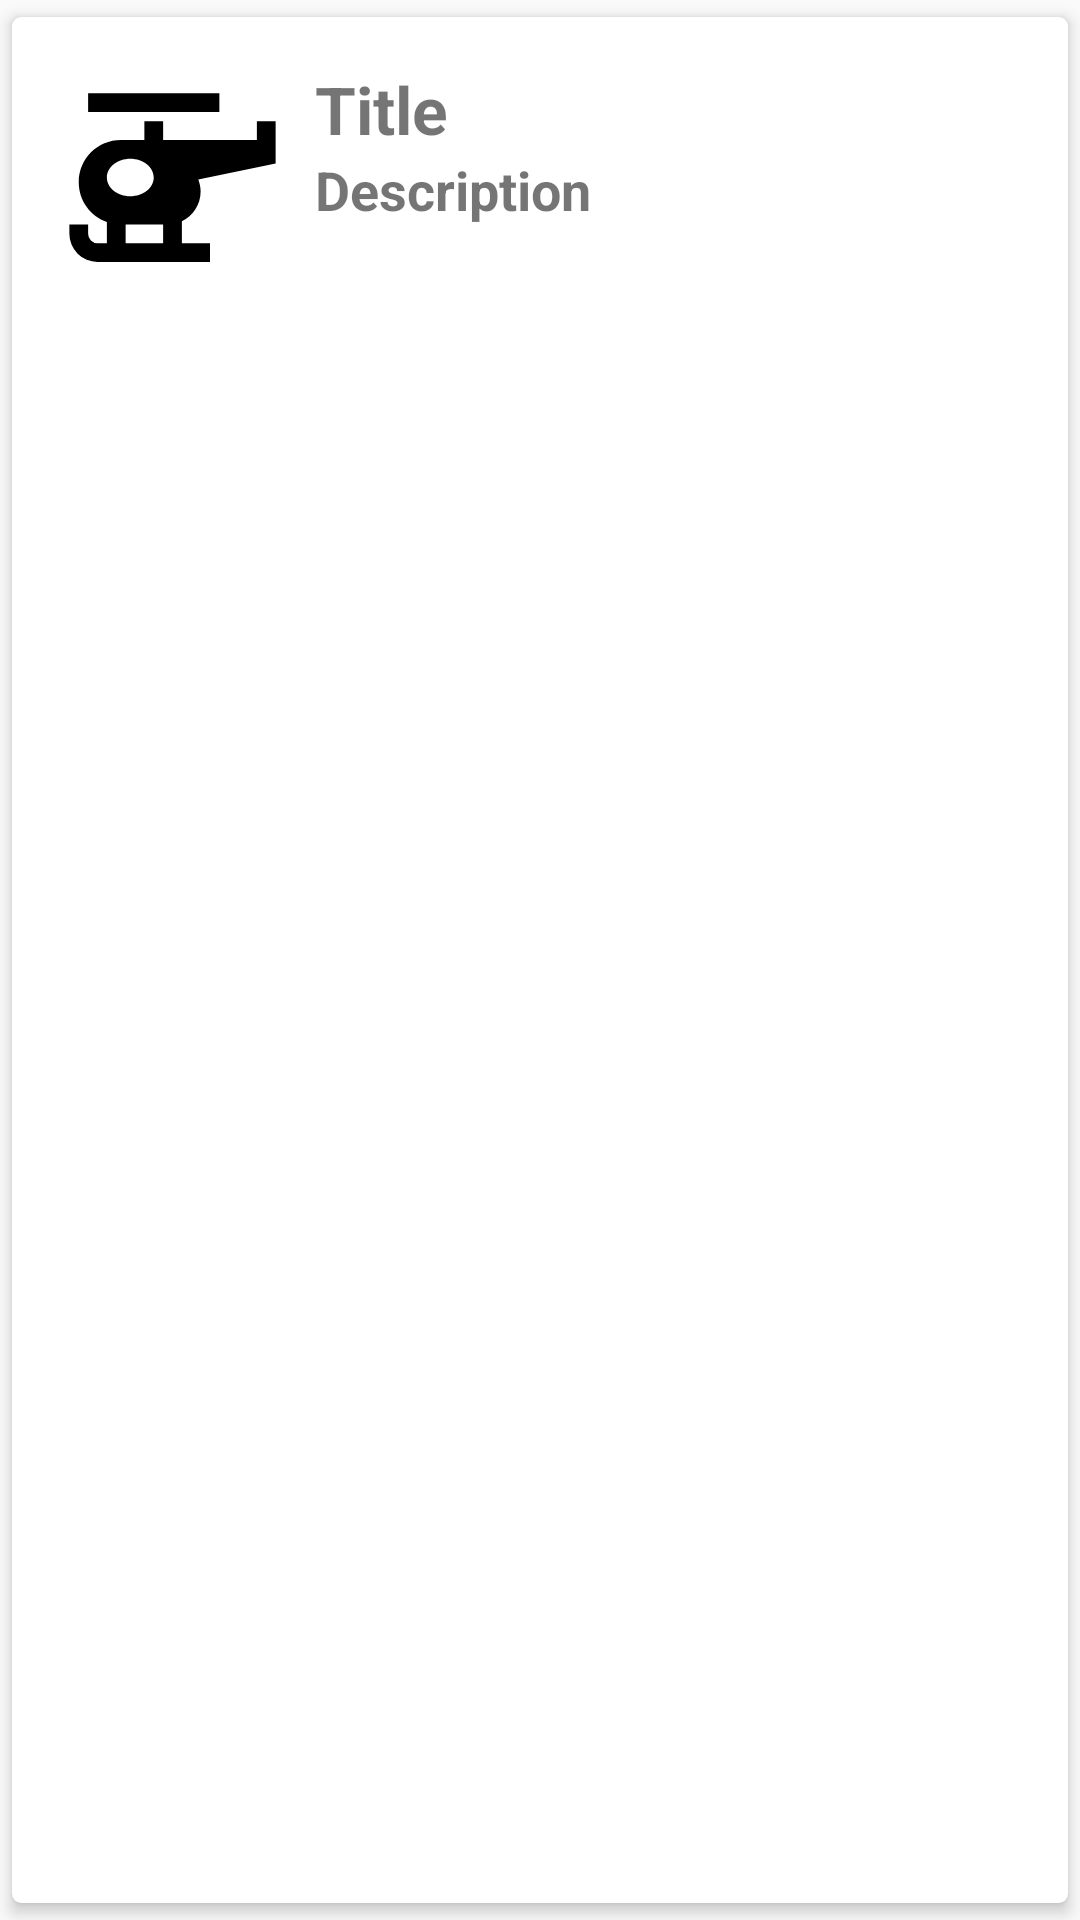

Icons on this 1080 x 1920 Android screen, each with its box as (x1, y1, x2, y2):
helicopter: (69, 93, 276, 262)
